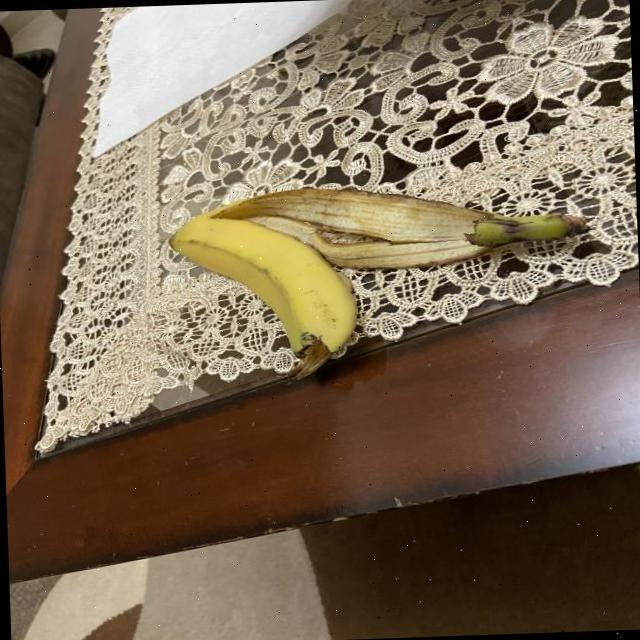banana-peel: (166, 175, 594, 382), (204, 176, 590, 276), (166, 207, 360, 378)
